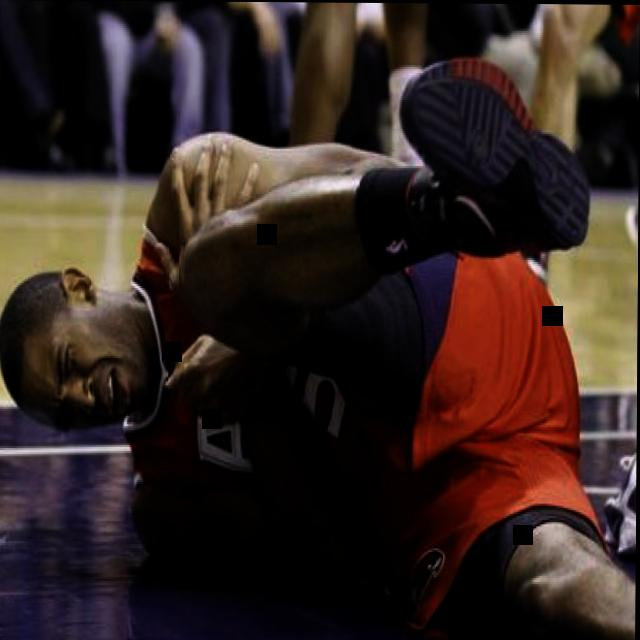Fall-Detected: (0, 37, 634, 640)
